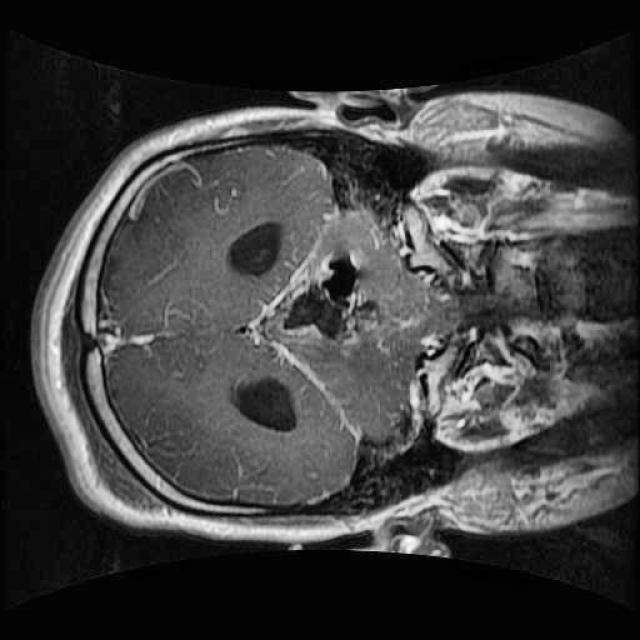Tumor: (270, 236, 401, 356)
